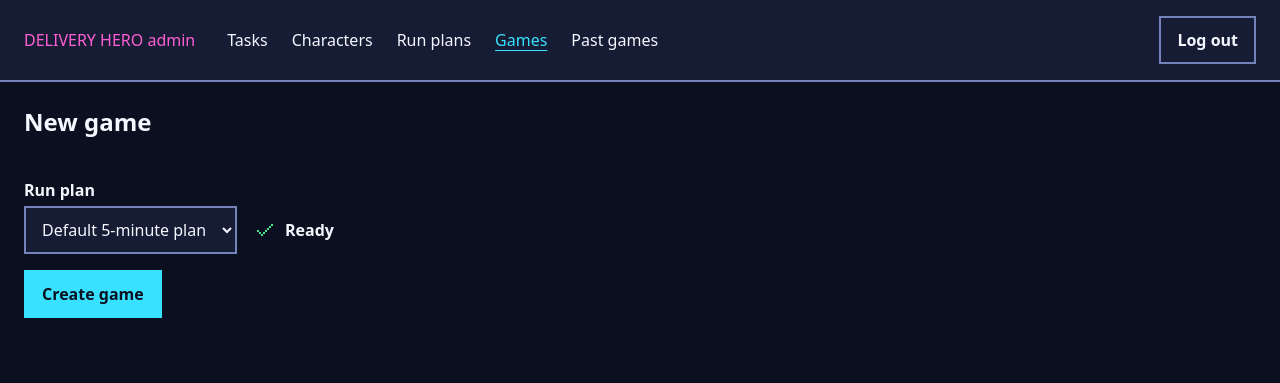
Test case: NewGameScreen › AC-US59-02 broken plan: a refused creation lists the reasons from the server
Check: the text "Ready" is shown, box x1=253 y1=218 x2=334 y2=242
Step 1. Click the button "Create game" → (93,294), box x1=24 y1=270 x2=162 y2=318
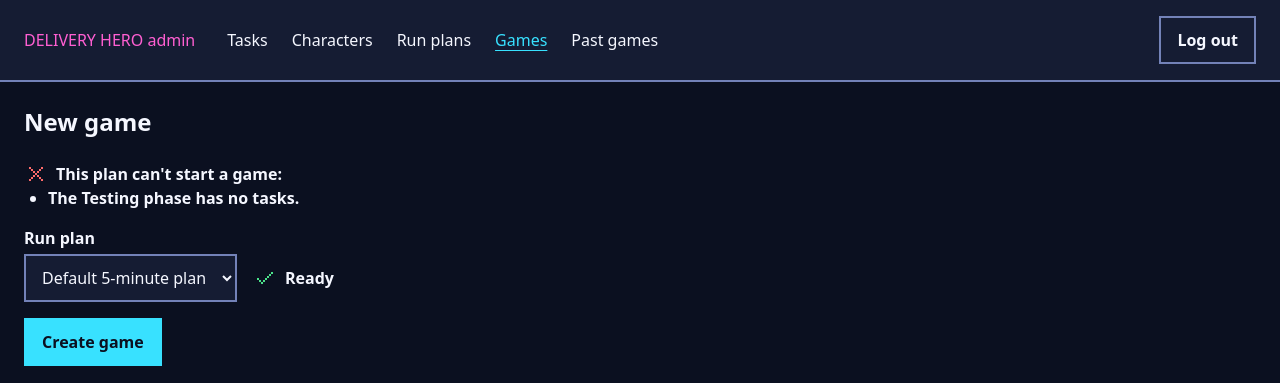
Check: the list item "The Testing phase has no tasks." is shown, box x1=48 y1=187 x2=299 y2=209
Check: the text "This plan can't start a game:" is shown, box x1=24 y1=162 x2=282 y2=186
